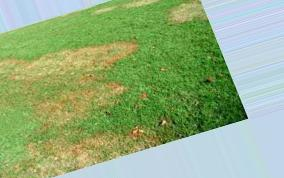patch: (49, 133, 102, 167), (43, 90, 85, 125), (92, 74, 126, 104), (65, 45, 124, 57), (27, 52, 57, 73), (115, 129, 138, 151), (168, 4, 192, 18), (123, 2, 148, 12), (93, 8, 114, 14)
